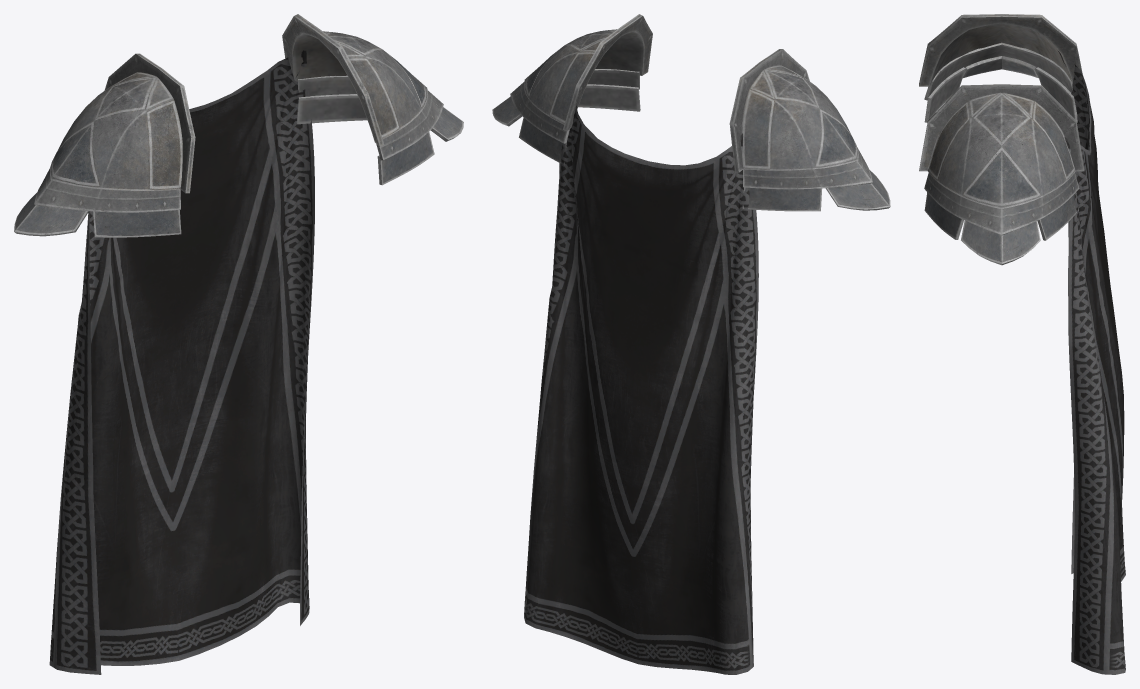
Rendered from sk_dwarf_erebor_pauldron_plate_cape_heavy_b.fbx.
The picture shows the model from 3 angles, left to right: view 1: azimuth 30°, elevation 25°; view 2: azimuth 150°, elevation 25°; view 3: azimuth 270°, elevation 25°; orthographic projection. The views are drawn at different scales.
Visible parts, largest first — view 1: sk_dwarf_erebor_pauldron_plate_cape_heavy_b.1, sk_dwarf_erebor_pauldron_plate_cape_heavy_b.0; view 2: sk_dwarf_erebor_pauldron_plate_cape_heavy_b.1, sk_dwarf_erebor_pauldron_plate_cape_heavy_b.0; view 3: sk_dwarf_erebor_pauldron_plate_cape_heavy_b.0, sk_dwarf_erebor_pauldron_plate_cape_heavy_b.1.
Part boxes in pixels (x1,y1,x2,y2): sk_dwarf_erebor_pauldron_plate_cape_heavy_b.1: (49, 50, 314, 674); sk_dwarf_erebor_pauldron_plate_cape_heavy_b.0: (14, 14, 463, 237); sk_dwarf_erebor_pauldron_plate_cape_heavy_b.1: (524, 105, 758, 674); sk_dwarf_erebor_pauldron_plate_cape_heavy_b.0: (492, 14, 890, 211); sk_dwarf_erebor_pauldron_plate_cape_heavy_b.0: (919, 14, 1084, 265); sk_dwarf_erebor_pauldron_plate_cape_heavy_b.1: (1058, 51, 1125, 674).
Size of the model in its own units: 0.8629 by 0.3811 by 1.2.
2 materials, 2 textured.
